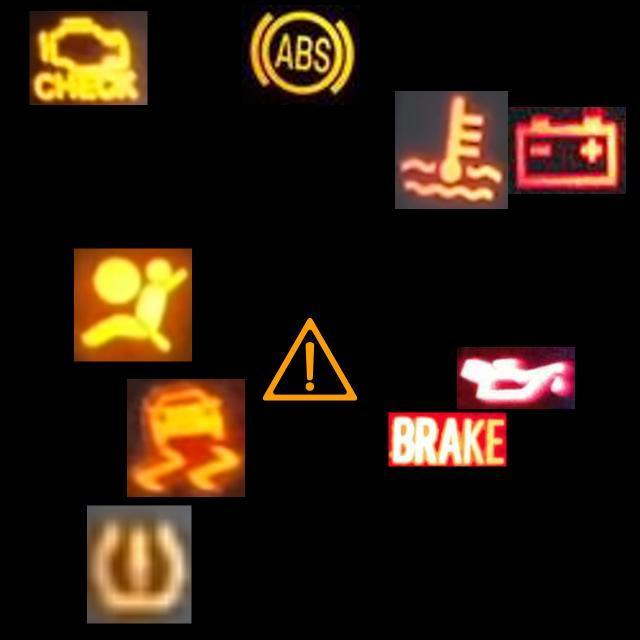Central Warning lamp: (251, 301, 369, 418)
Engine cooling system: (395, 91, 508, 209)
